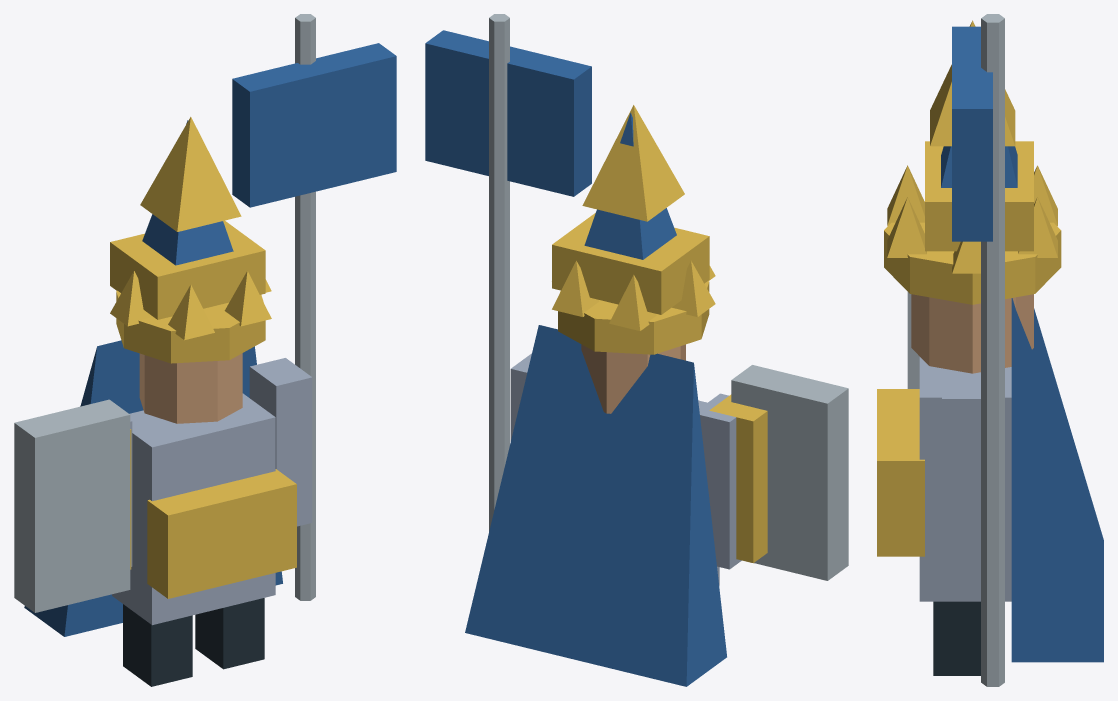
The model's file is hero.obj.
The picture shows the model from 3 angles, left to right: view 1: azimuth 30°, elevation 25°; view 2: azimuth 150°, elevation 25°; view 3: azimuth 270°, elevation 25°; orthographic projection. The views are drawn at different scales.
Visible parts, largest first — view 1: hero; view 2: hero; view 3: hero.
Boxes of the visible parts, left/top/right/bottom form: hero: left=14, top=14, right=396, bottom=686; hero: left=425, top=14, right=848, bottom=686; hero: left=877, top=14, right=1103, bottom=686.
Bounding box in the file's own units: 1.48 × 2.25 × 0.665.
